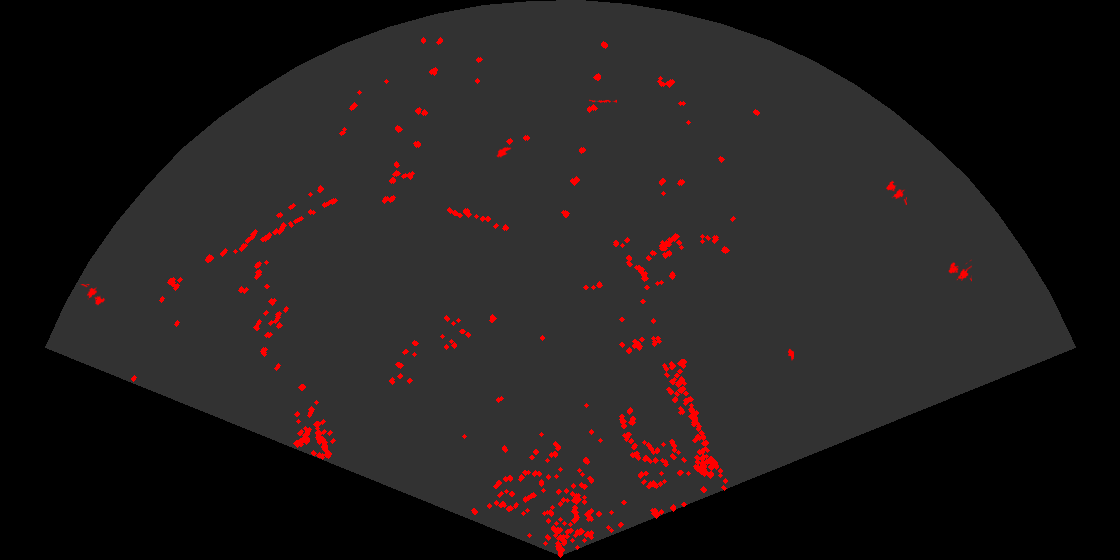AUV: (495, 145, 513, 159), (786, 347, 794, 362)
cage: (79, 284, 107, 307), (947, 258, 972, 283), (884, 179, 907, 205)
chain: (587, 98, 617, 104)
